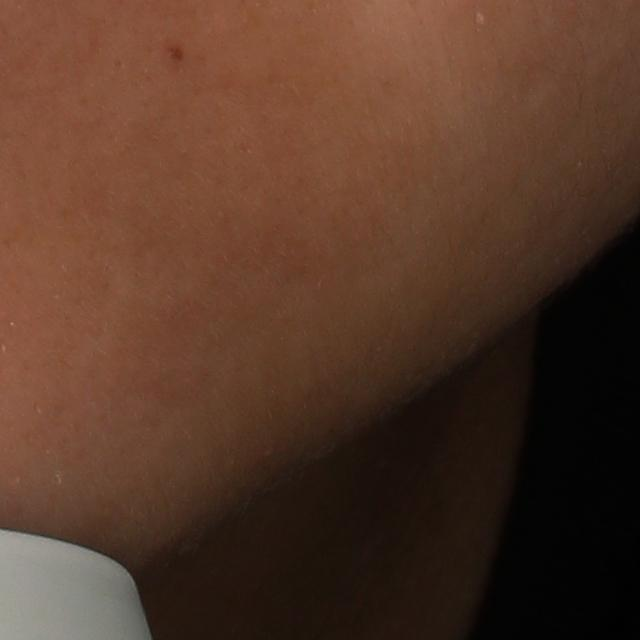nevus: (164, 43, 184, 65)
